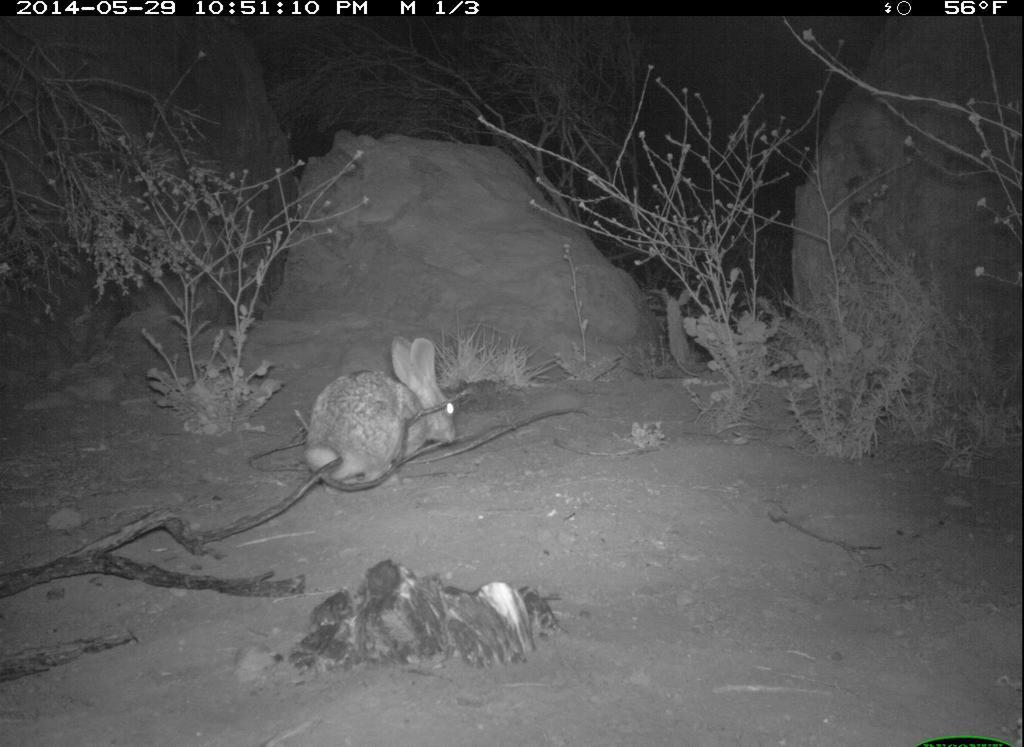rabbit: (287, 337, 508, 514)
